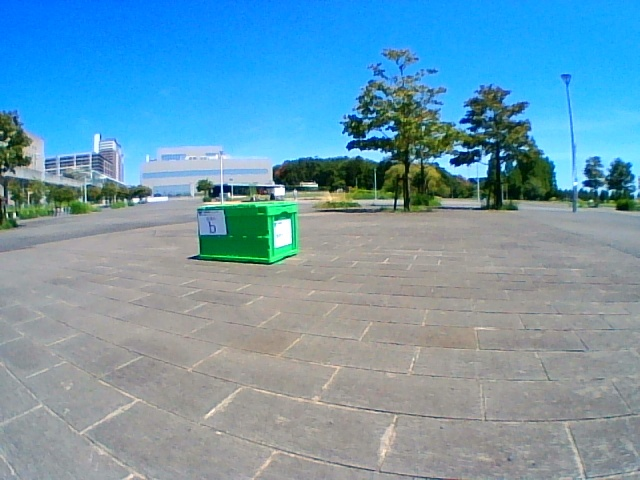green_box: (198, 202, 300, 265)
tag_b: (198, 210, 225, 235)
